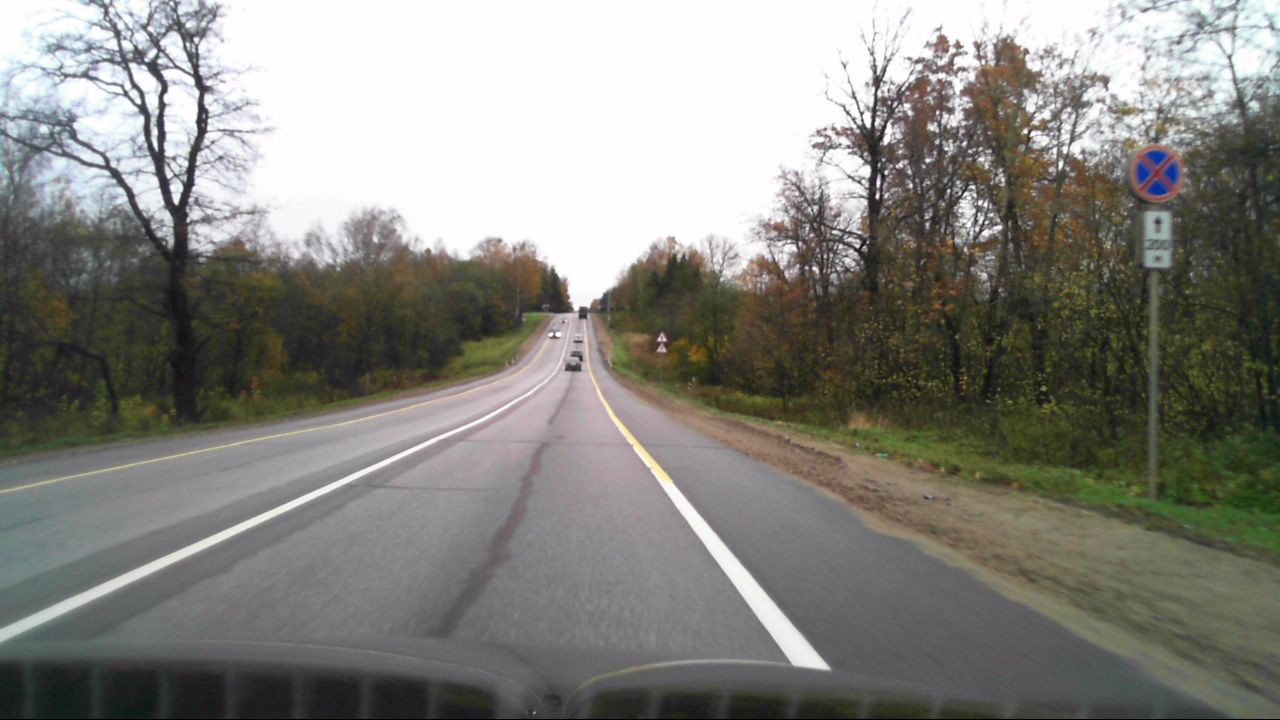No Parking: (1128, 144, 1183, 202)
